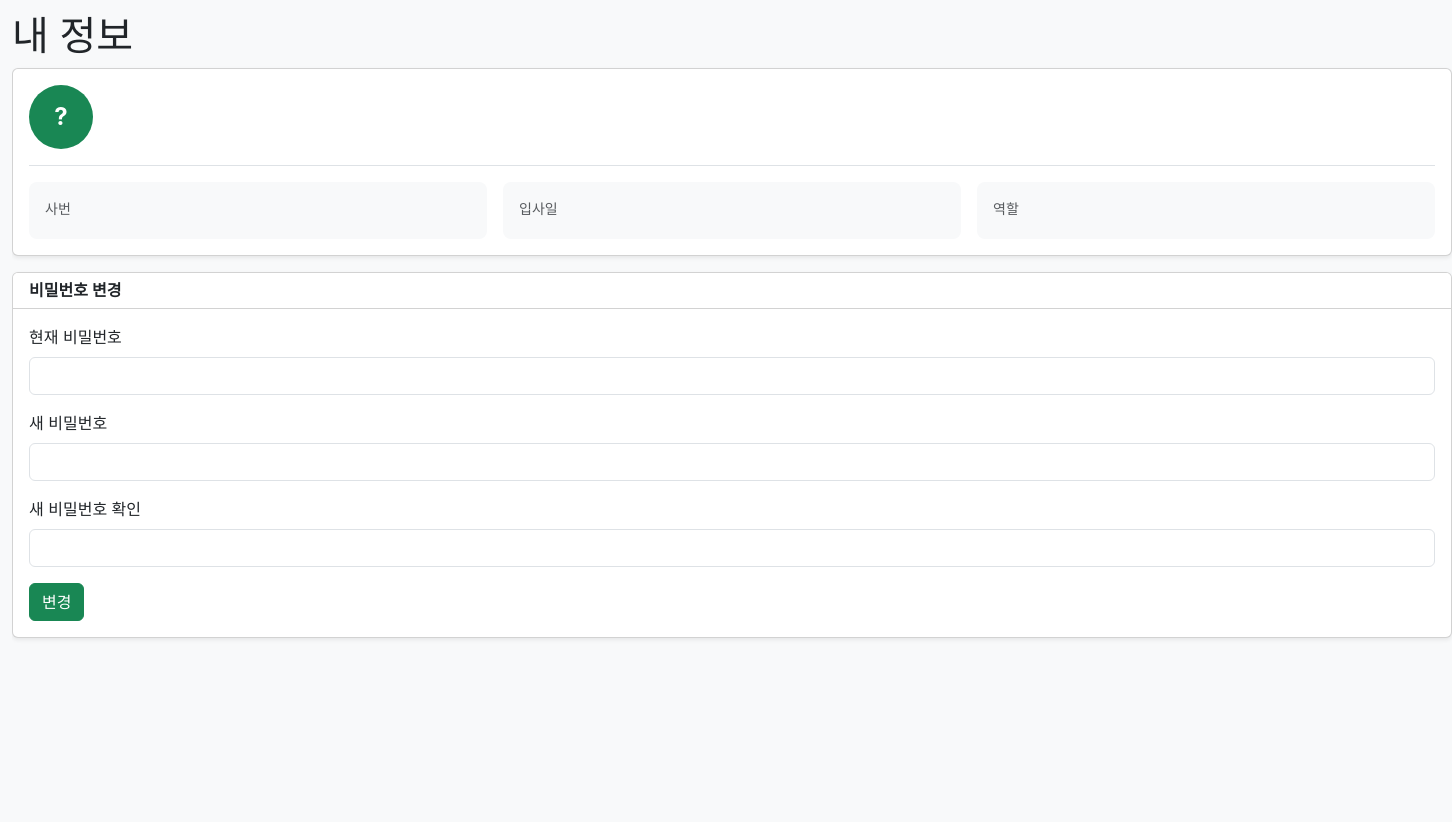
Test: MePage › 새 비밀번호와 확인이 다르면 제출을 막고 에러를 표시한다
Type "old-pw" into the password field below "현재 비밀번호" at (732, 376), box 29,357 -> 1435,395
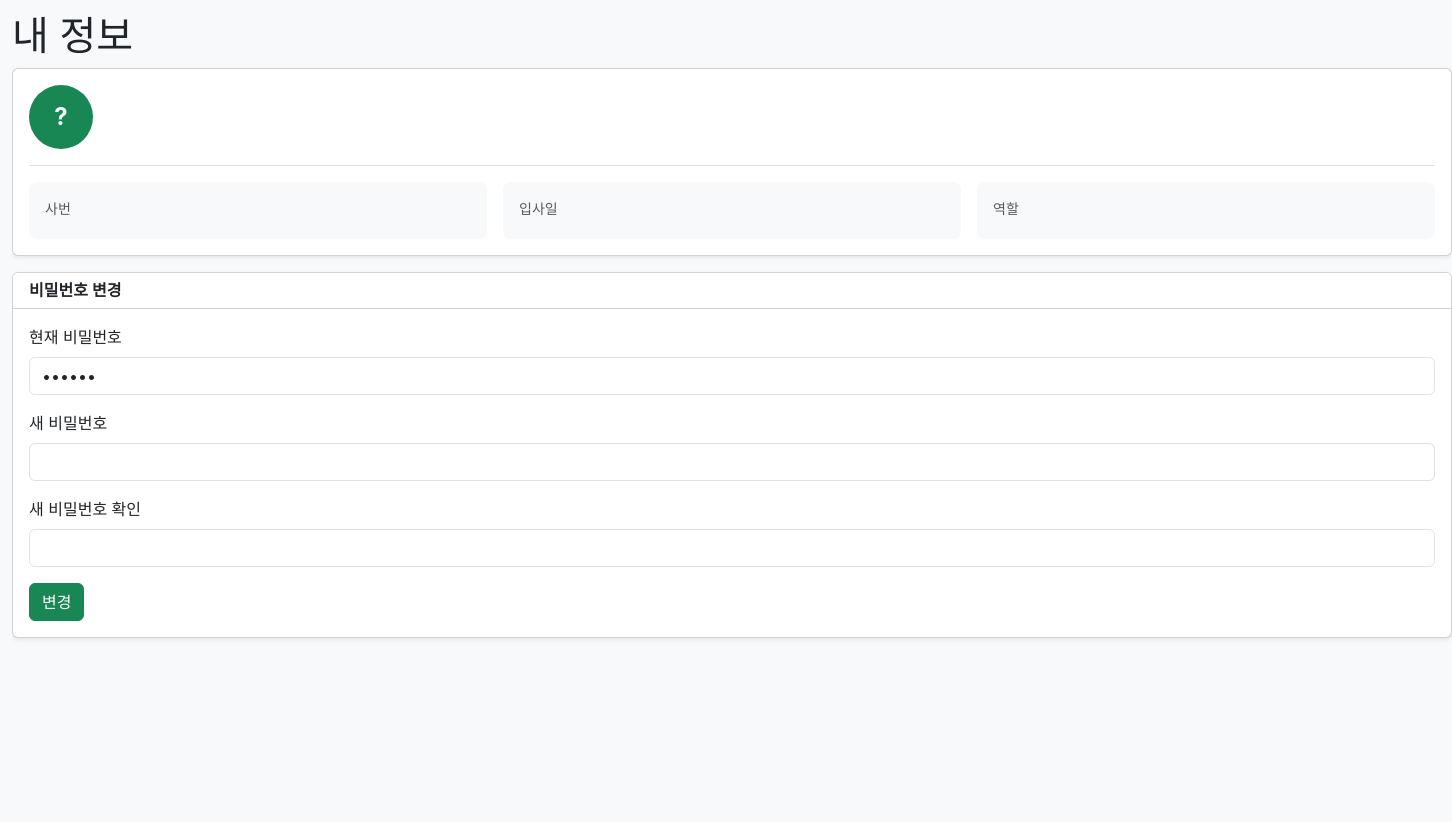
Type "new-pw1!" into the 2nd password field at (732, 462), box 29,443 -> 1435,481
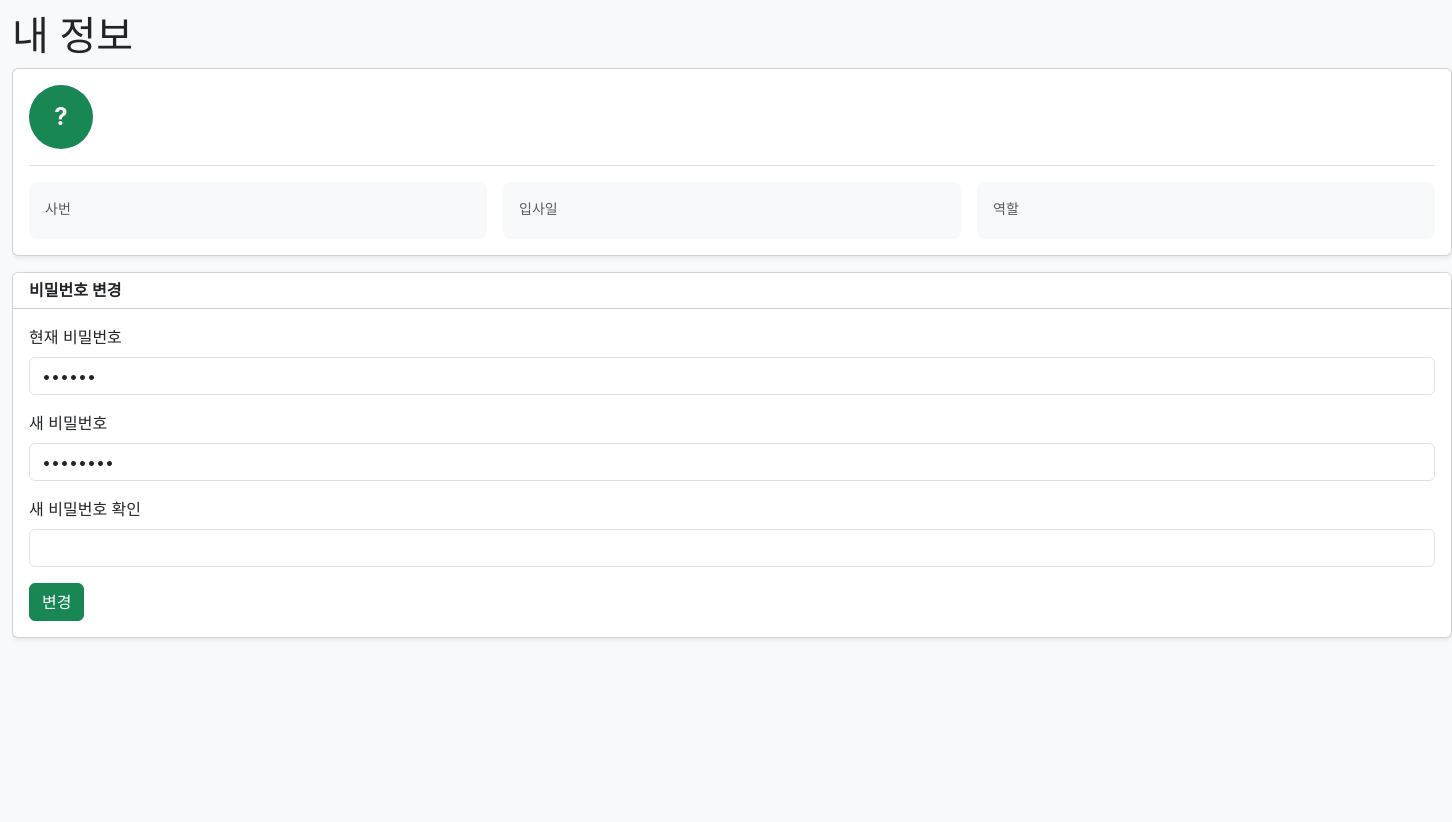
Type "different" into the password field below "새 비밀번호 확인" at (732, 548), box 29,529 -> 1435,567
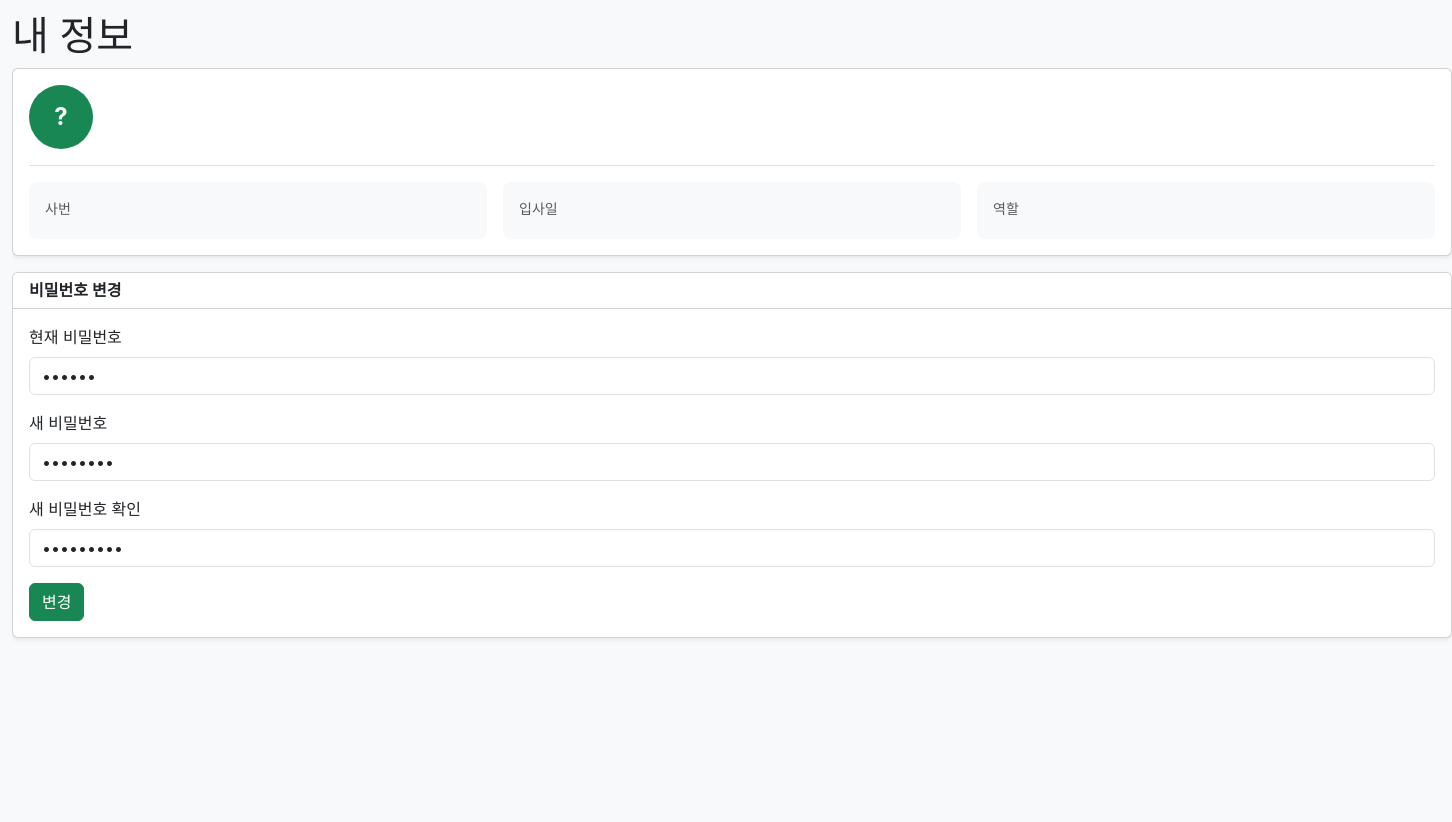
Click the button "변경" at (57, 602), box 29,583 -> 84,621
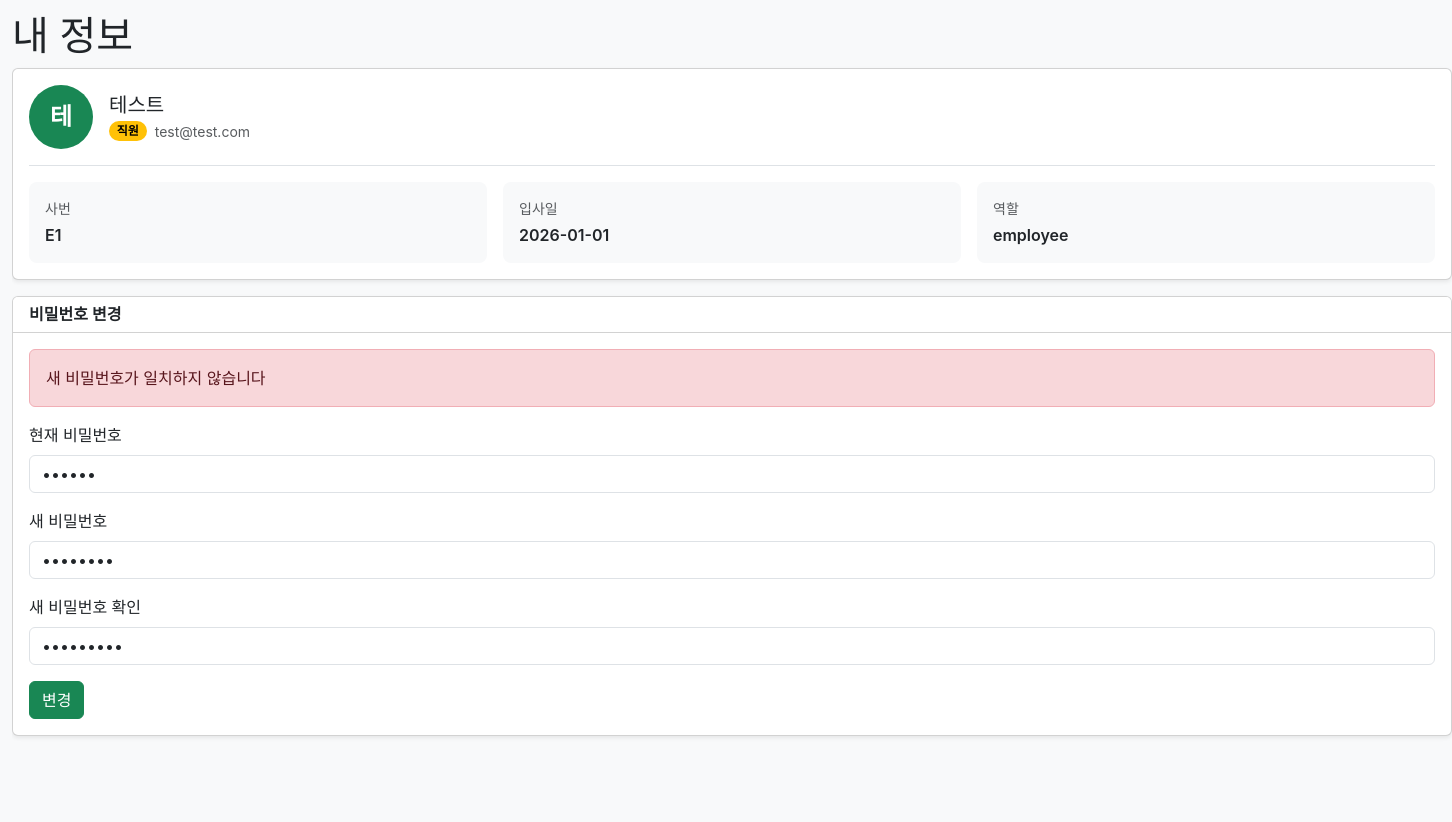
Check: the message reads "새 비밀번호가 일치하지 않습니다", box 46,368 -> 266,388
